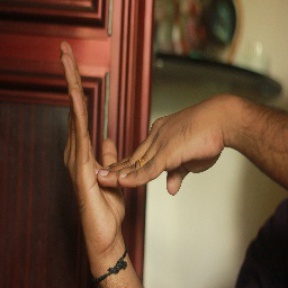Z: (50, 34, 232, 251)
